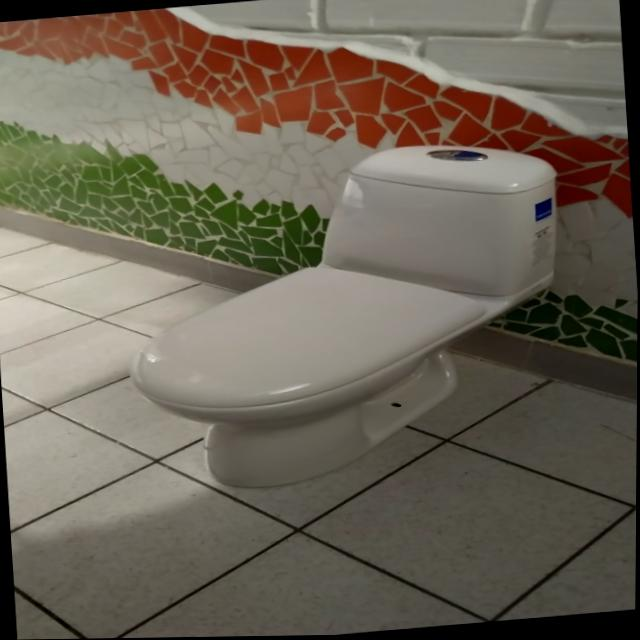toilet: (114, 134, 577, 499)
